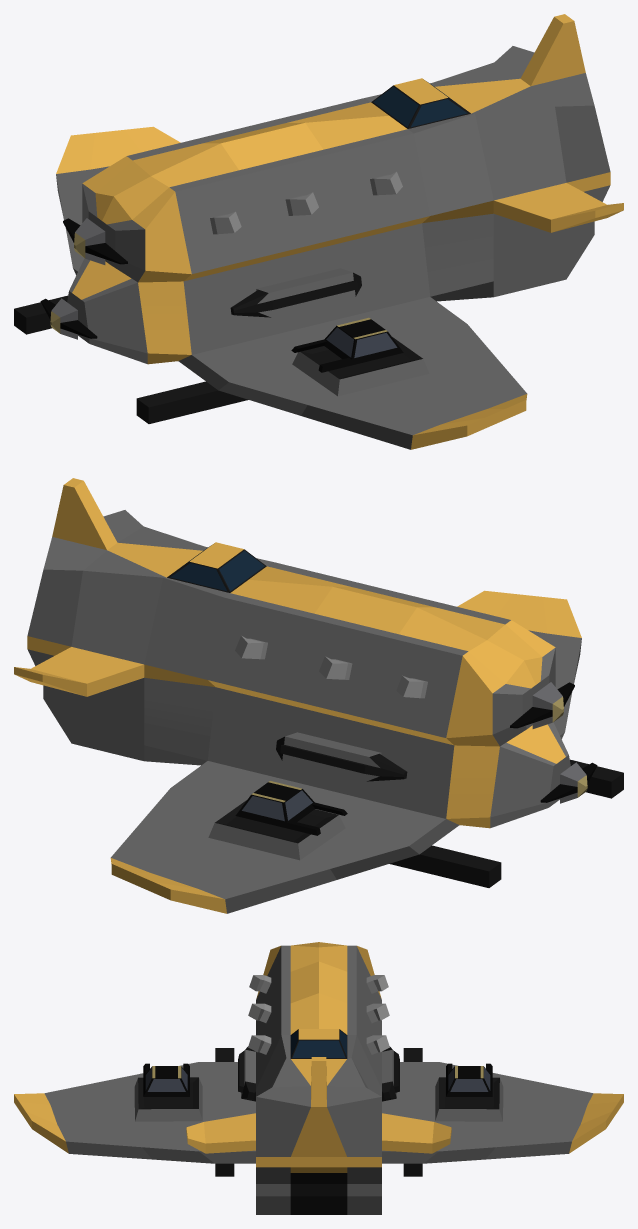
Rendered from OmegaGunner.fbx.
3 views of the same model, one above another, from view 1: azimuth 30°, elevation 25°; view 2: azimuth 150°, elevation 25°; view 3: azimuth 270°, elevation 25° (orthographic). The views are drawn at different scales.
Parts seen in each view (by area): view 1: Cube, Cube.003, Cube.001, Cube.002; view 2: Cube, Cube.004, Cube.001, Cube.002; view 3: Cube, Cube.003, Cube.004.
Boxes of the visible parts, x1=… form: Cube: x1=14, y1=14, x2=623, y2=449; Cube.003: x1=291, y1=317, x2=403, y2=372; Cube.001: x1=63, y1=218, x2=127, y2=264; Cube.002: x1=40, y1=298, x2=97, y2=339; Cube: x1=14, y1=478, x2=623, y2=913; Cube.004: x1=235, y1=781, x2=347, y2=835; Cube.001: x1=510, y1=682, x2=574, y2=728; Cube.002: x1=540, y1=762, x2=597, y2=803; Cube: x1=14, y1=942, x2=623, y2=1214; Cube.003: x1=143, y1=1063, x2=189, y2=1096; Cube.004: x1=446, y1=1063, x2=492, y2=1096.
Bounding box in the file's own units: 1666 × 716 × 2159.
